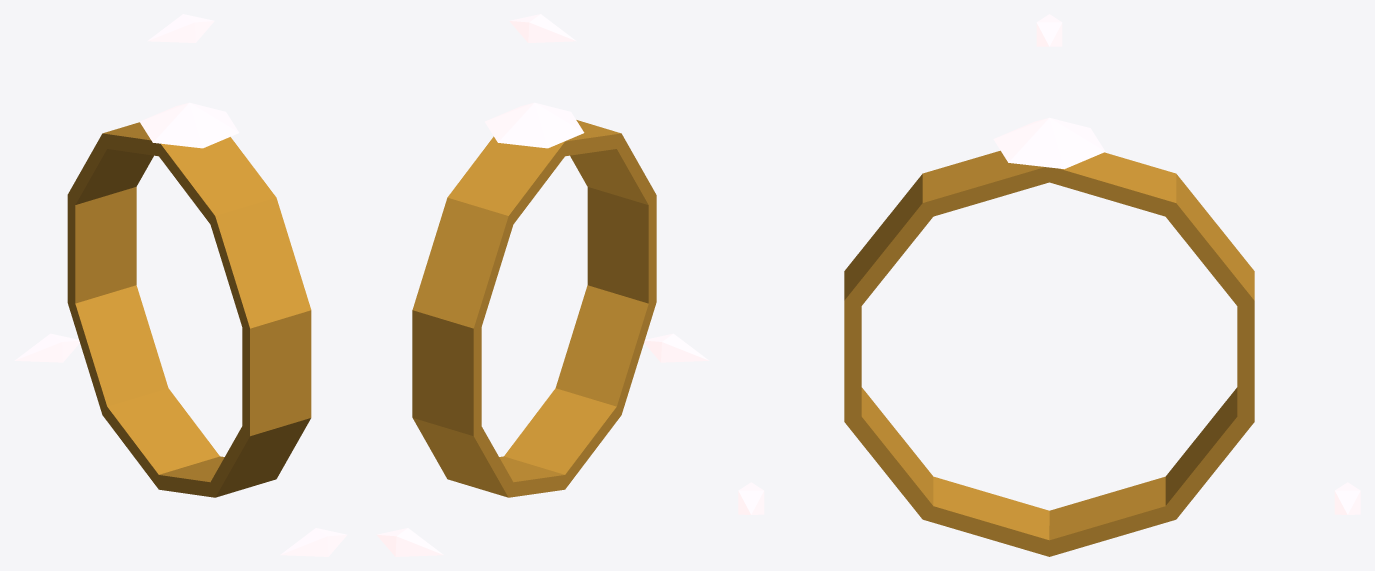
File: armor_ring_mythic_human.glb
3 views of the same model, side by side, from view 1: azimuth 30°, elevation 25°; view 2: azimuth 150°, elevation 25°; view 3: azimuth 270°, elevation 25° (orthographic). The views are drawn at different scales.
Parts seen in each view (by area): view 1: armor_ring_mythic_human__middle_01_r; view 2: armor_ring_mythic_human__middle_01_r; view 3: armor_ring_mythic_human__middle_01_r.
Boxes of the visible parts, x1,y1,x2,y2 form: armor_ring_mythic_human__middle_01_r: (14, 14, 347, 556); armor_ring_mythic_human__middle_01_r: (376, 14, 709, 556); armor_ring_mythic_human__middle_01_r: (738, 14, 1360, 556).
Bounding box in the file's own units: 3.67 × 18.8 × 20.33.
